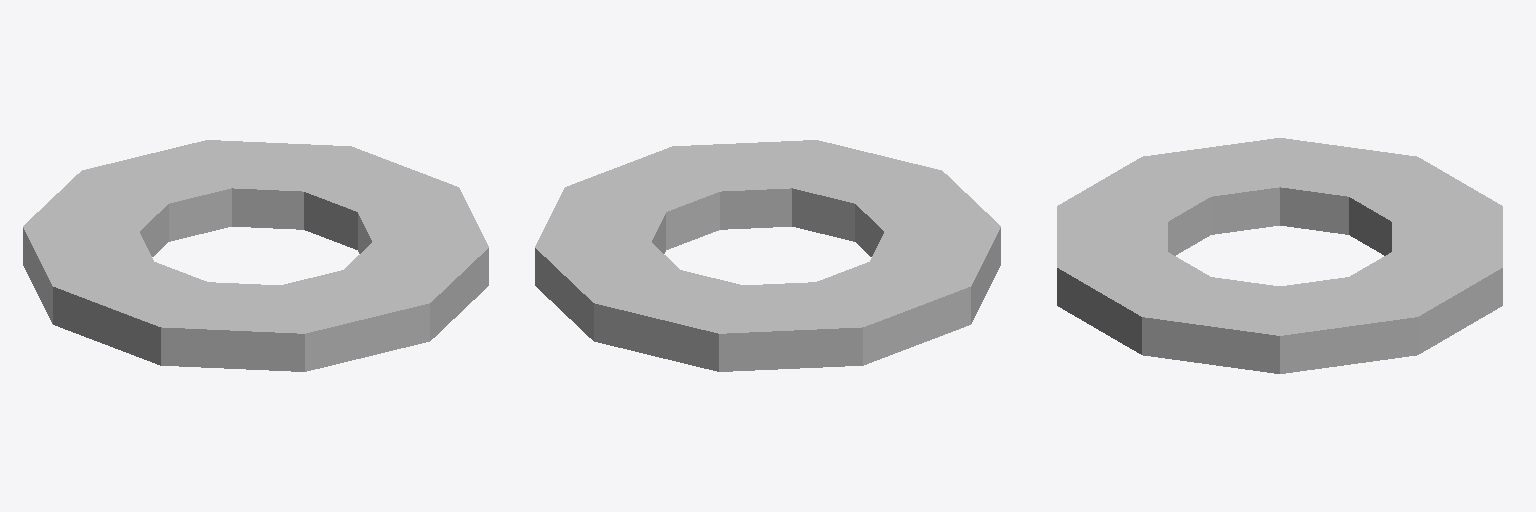
File: mydrone.obj
The picture shows the model from 3 angles: view 1: azimuth 30°, elevation 25°; view 2: azimuth 150°, elevation 25°; view 3: azimuth 270°, elevation 25°; orthographic projection.
Visible parts, largest first — view 1: 000_Tube; view 2: 000_Tube; view 3: 000_Tube.
Boxes of the visible parts, box(x1,y1,x2,y2) form: 000_Tube: box(23, 140, 488, 371); 000_Tube: box(535, 140, 1000, 371); 000_Tube: box(1057, 138, 1502, 373).
Bounding box in the file's own units: 100 × 9 × 95.11.